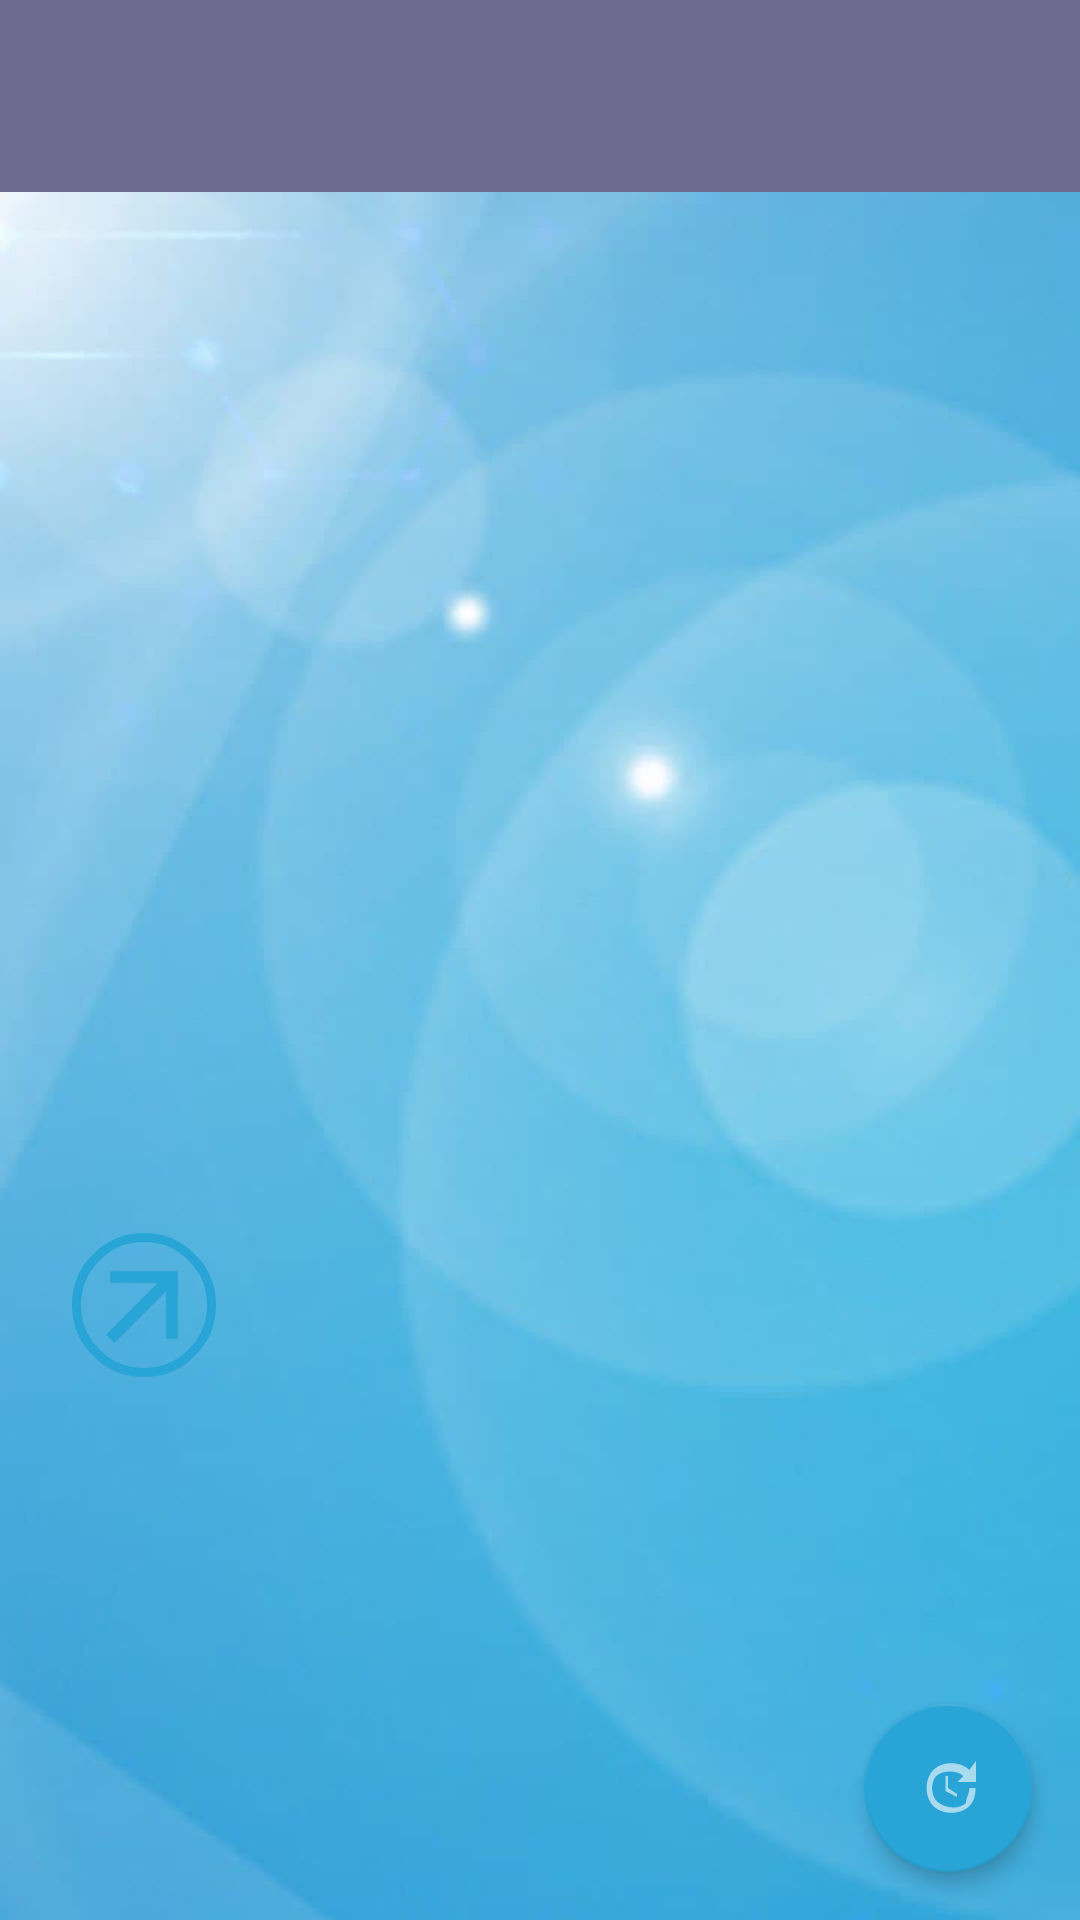

Where icons sit on this 1080px x 1920px app screen, as (x1, y1, x2, y2):
update: (864, 1706, 1032, 1872)
